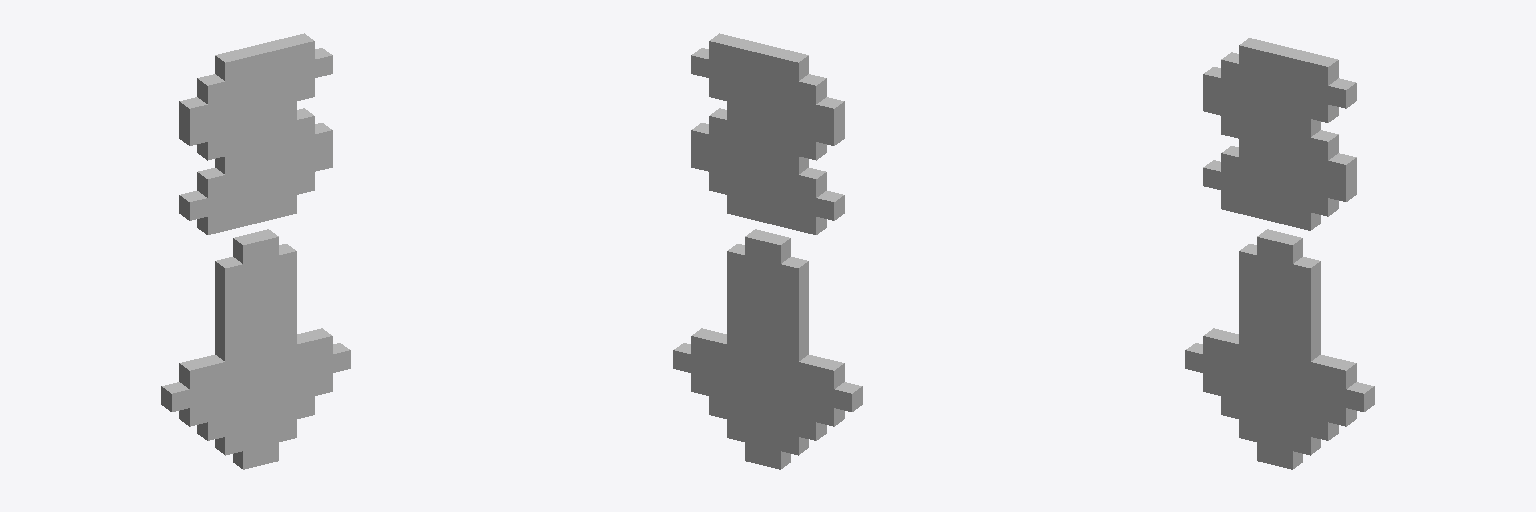
The model's file is S sign.obj.
3 renders of one model, left to right at view 1: azimuth 30°, elevation 25°; view 2: azimuth 150°, elevation 25°; view 3: azimuth 330°, elevation 25°, orthographic.
Visible parts, largest first — view 1: object 1; view 2: object 1; view 3: object 1.
Boxes of the visible parts, x1=… form: object 1: x1=161, y1=33, x2=350, y2=469; object 1: x1=673, y1=33, x2=862, y2=469; object 1: x1=1185, y1=38, x2=1374, y2=469.
Bounding box in the file's own units: 1 × 2.2 × 0.1.